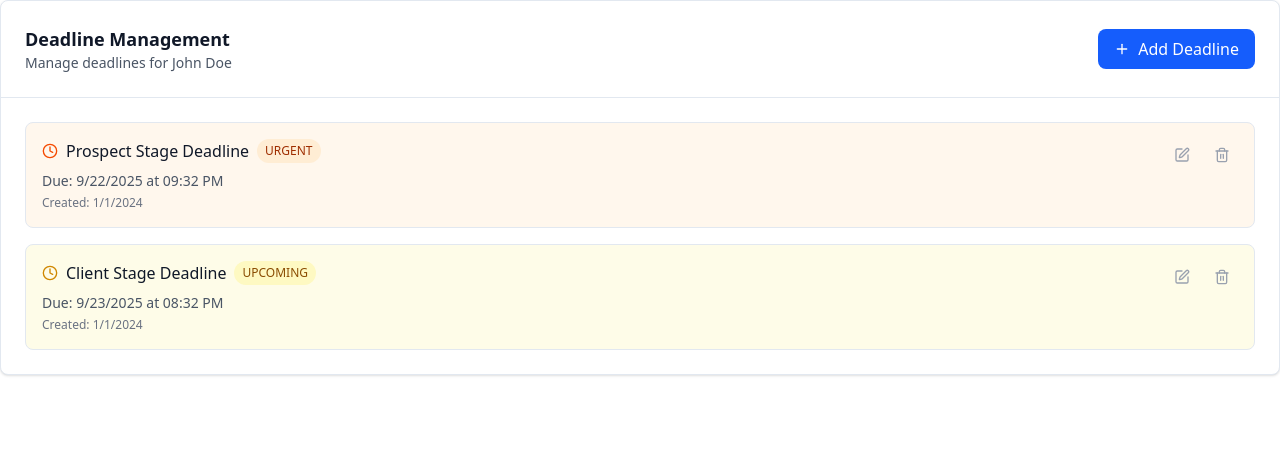
Test: DeadlineManager › handles delete error
This screenshot has width=1280, height=467.
Click the button titled "Delete deadline" in the row of "URGENT" at (1222, 155), box [1206,139,1238,171]
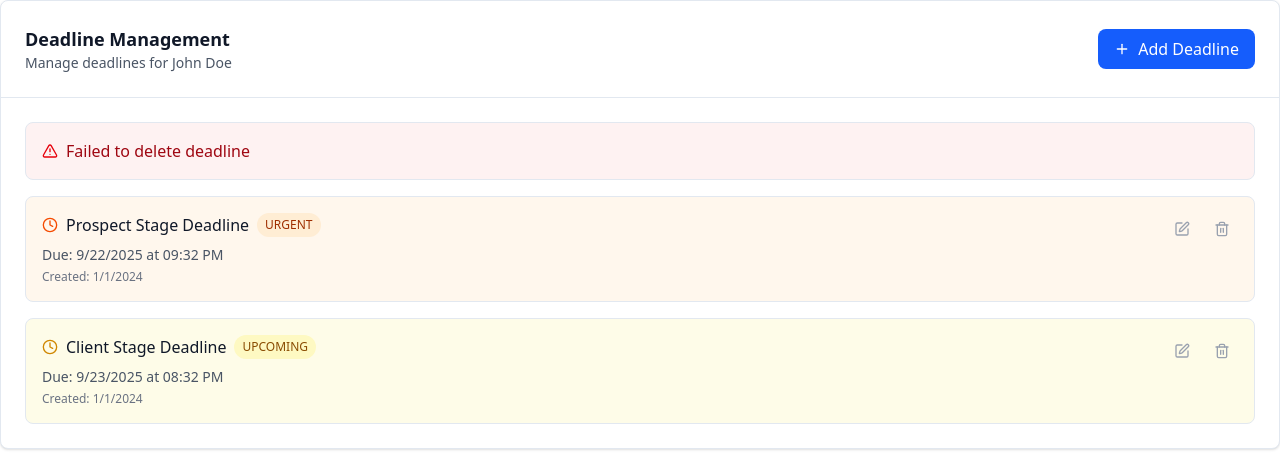
expect the text "Failed to delete deadline" is shown: met, box [66,139,250,163]
